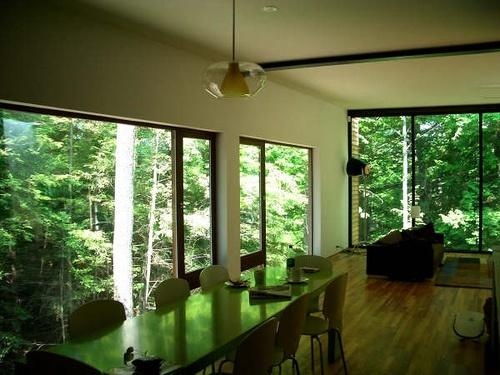chair: (220, 294, 309, 375), (302, 272, 349, 375), (233, 314, 281, 374), (68, 298, 128, 341), (154, 276, 191, 312), (199, 264, 231, 294), (292, 255, 334, 277)
diningtable: (15, 265, 350, 375)
sofa: (366, 223, 446, 282)
